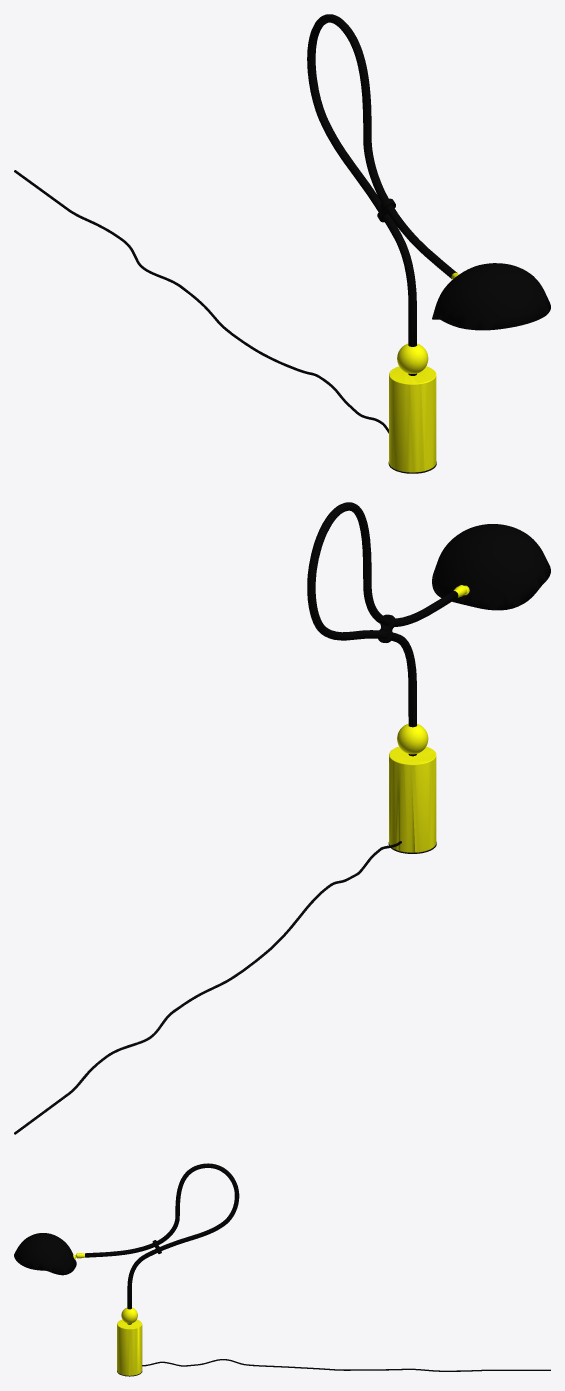
Rendered from designconnected-curved-neck-table-lamp-8669.optimized.glb.
3 renders of one model, top to bottom at view 1: azimuth 30°, elevation 25°; view 2: azimuth 150°, elevation 25°; view 3: azimuth 270°, elevation 25°, orthographic. The views are drawn at different scales.
Visible parts, largest first — view 1: Collected_By_Curved_Neck_Lamp; view 2: Collected_By_Curved_Neck_Lamp; view 3: Collected_By_Curved_Neck_Lamp.
Boxes of the visible parts, x1,y1,x2,y2 form: Collected_By_Curved_Neck_Lamp: (14,14,550,473); Collected_By_Curved_Neck_Lamp: (14,502,550,1134); Collected_By_Curved_Neck_Lamp: (14,1163,550,1376).
Size of the model in its own units: 0.204 by 0.7424 by 1.74.
